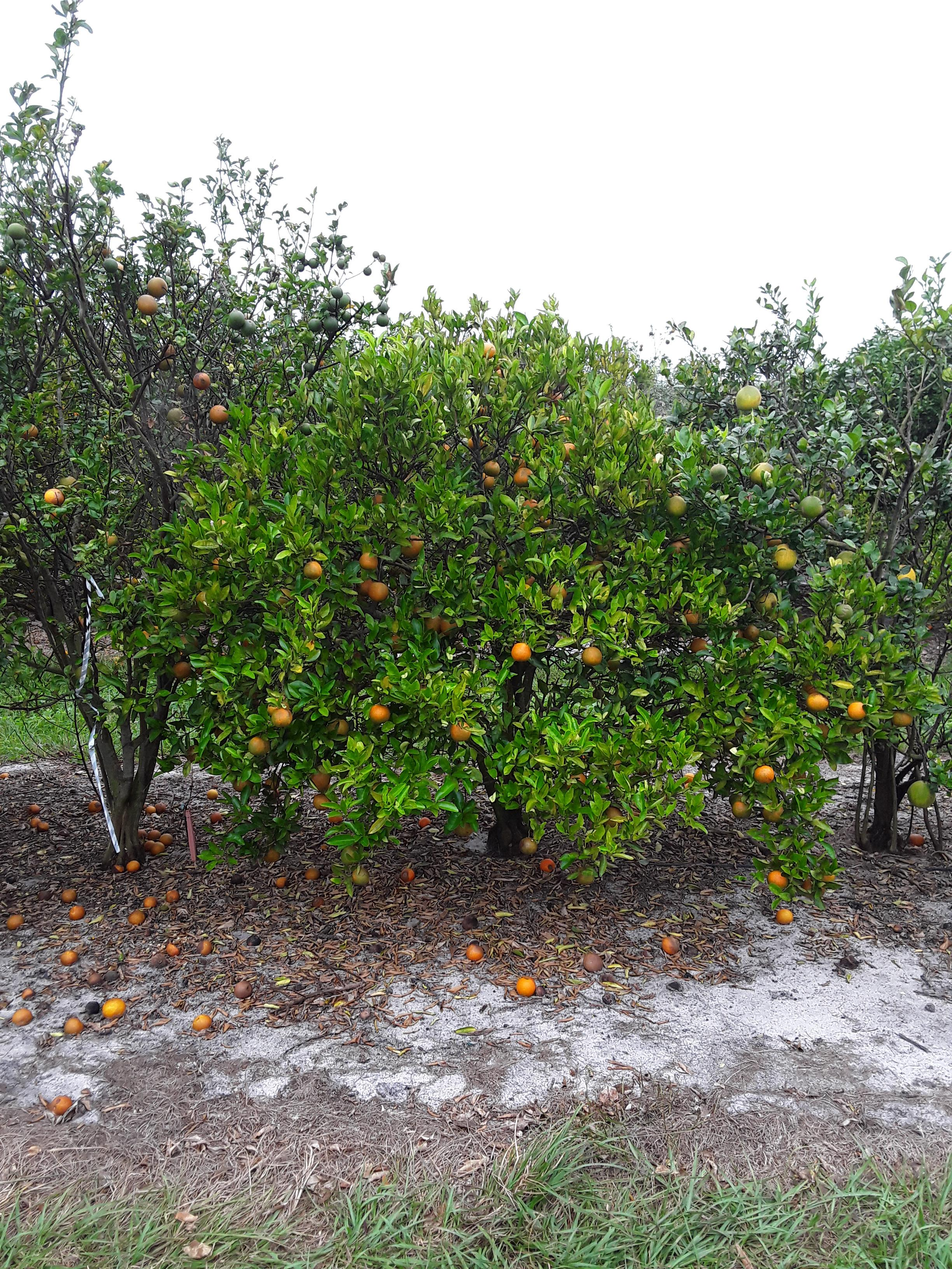fruit_on_ground: (906, 779, 937, 810), (749, 459, 778, 488), (734, 383, 763, 412), (385, 625, 412, 654), (797, 493, 825, 520), (753, 589, 782, 615), (97, 647, 127, 672), (892, 561, 920, 587), (398, 532, 426, 558), (662, 493, 690, 519), (438, 609, 463, 638), (419, 610, 446, 636), (771, 545, 798, 571), (506, 447, 533, 473), (665, 534, 694, 557), (448, 718, 474, 743), (804, 689, 830, 714), (264, 699, 291, 723), (246, 734, 271, 759), (270, 584, 296, 608), (136, 621, 163, 644), (546, 580, 571, 604), (511, 465, 535, 490), (144, 274, 168, 299), (366, 580, 392, 603), (366, 701, 390, 725), (761, 801, 786, 824), (133, 294, 158, 317), (269, 705, 294, 728), (509, 640, 534, 663), (602, 805, 626, 828), (580, 644, 604, 667), (518, 572, 543, 594), (175, 631, 200, 653), (491, 366, 516, 388), (564, 769, 590, 790), (558, 439, 581, 462), (707, 461, 730, 484), (471, 397, 494, 420), (434, 436, 458, 458), (687, 633, 711, 655), (5, 220, 29, 242), (357, 550, 381, 572), (208, 554, 232, 576), (740, 623, 765, 644), (890, 708, 915, 729), (41, 486, 66, 507), (810, 719, 833, 741), (339, 845, 362, 867), (172, 659, 195, 681), (207, 403, 230, 425), (225, 307, 247, 330), (190, 370, 213, 392), (301, 558, 324, 580), (753, 762, 775, 785), (327, 716, 351, 737), (541, 387, 566, 407), (165, 404, 187, 426), (478, 340, 500, 362), (517, 835, 539, 857), (846, 698, 868, 720), (833, 601, 856, 622), (730, 797, 751, 820), (358, 578, 379, 600), (350, 866, 372, 887), (304, 312, 325, 334), (240, 316, 262, 337), (681, 606, 703, 627), (320, 313, 342, 334), (310, 770, 332, 791), (169, 604, 192, 624), (237, 632, 260, 652), (522, 433, 545, 453), (491, 557, 512, 578), (519, 496, 540, 517), (761, 531, 783, 551), (369, 489, 392, 508), (452, 820, 476, 838), (19, 421, 40, 441), (310, 791, 331, 811), (574, 868, 597, 886), (55, 472, 79, 489), (633, 758, 653, 778), (102, 529, 122, 549), (74, 664, 94, 684), (323, 296, 343, 315), (376, 672, 396, 691), (463, 433, 483, 452), (680, 768, 700, 787), (100, 256, 119, 275), (300, 635, 320, 653), (95, 242, 115, 259), (327, 283, 347, 300), (296, 420, 314, 438), (483, 458, 501, 476), (157, 364, 176, 381), (374, 311, 393, 328), (609, 756, 627, 773), (555, 410, 574, 426), (232, 776, 251, 792), (110, 256, 127, 273), (410, 331, 427, 348), (480, 474, 498, 490), (375, 298, 392, 314), (161, 342, 178, 358), (536, 513, 553, 529), (172, 382, 188, 398), (338, 295, 354, 311), (409, 603, 426, 618), (263, 775, 280, 790), (156, 358, 173, 373), (181, 273, 196, 289), (327, 810, 345, 823), (302, 361, 316, 375), (340, 308, 352, 323), (334, 241, 347, 254), (229, 332, 243, 344), (307, 257, 320, 269), (334, 258, 346, 270), (362, 265, 373, 278), (370, 250, 381, 260), (295, 263, 306, 273), (295, 251, 305, 261), (378, 253, 387, 264), (300, 257, 309, 267)
fruit_on_tree: (799, 874, 828, 900), (102, 996, 126, 1020), (48, 1093, 74, 1115), (766, 868, 790, 891), (581, 949, 604, 973), (515, 974, 538, 998), (660, 932, 682, 956), (464, 941, 486, 963), (10, 1006, 33, 1027), (232, 979, 254, 1000), (63, 1015, 84, 1036), (774, 905, 795, 926), (460, 912, 481, 932), (4, 911, 25, 931), (191, 1012, 213, 1031), (262, 845, 282, 864), (537, 856, 557, 875), (906, 830, 927, 848), (397, 865, 416, 884), (67, 903, 87, 921), (60, 886, 79, 904), (127, 908, 146, 926), (59, 948, 79, 965), (197, 937, 214, 956), (86, 798, 104, 815), (164, 940, 180, 958), (303, 865, 321, 881), (819, 869, 838, 884), (148, 953, 167, 968), (87, 970, 104, 986), (415, 814, 432, 830), (164, 888, 181, 904), (103, 968, 121, 983), (148, 841, 166, 856), (245, 933, 263, 948), (228, 872, 245, 887), (35, 886, 53, 900), (311, 894, 327, 909), (125, 857, 141, 872), (143, 893, 158, 909), (160, 830, 176, 845), (145, 827, 162, 841), (273, 874, 289, 888), (19, 986, 35, 999), (27, 816, 43, 829), (208, 810, 224, 823), (205, 787, 220, 800), (154, 801, 168, 814), (27, 802, 41, 815), (35, 821, 50, 833), (142, 839, 157, 851), (136, 826, 149, 839), (144, 804, 158, 816), (317, 842, 330, 854), (112, 860, 125, 872), (0, 769, 11, 780)
